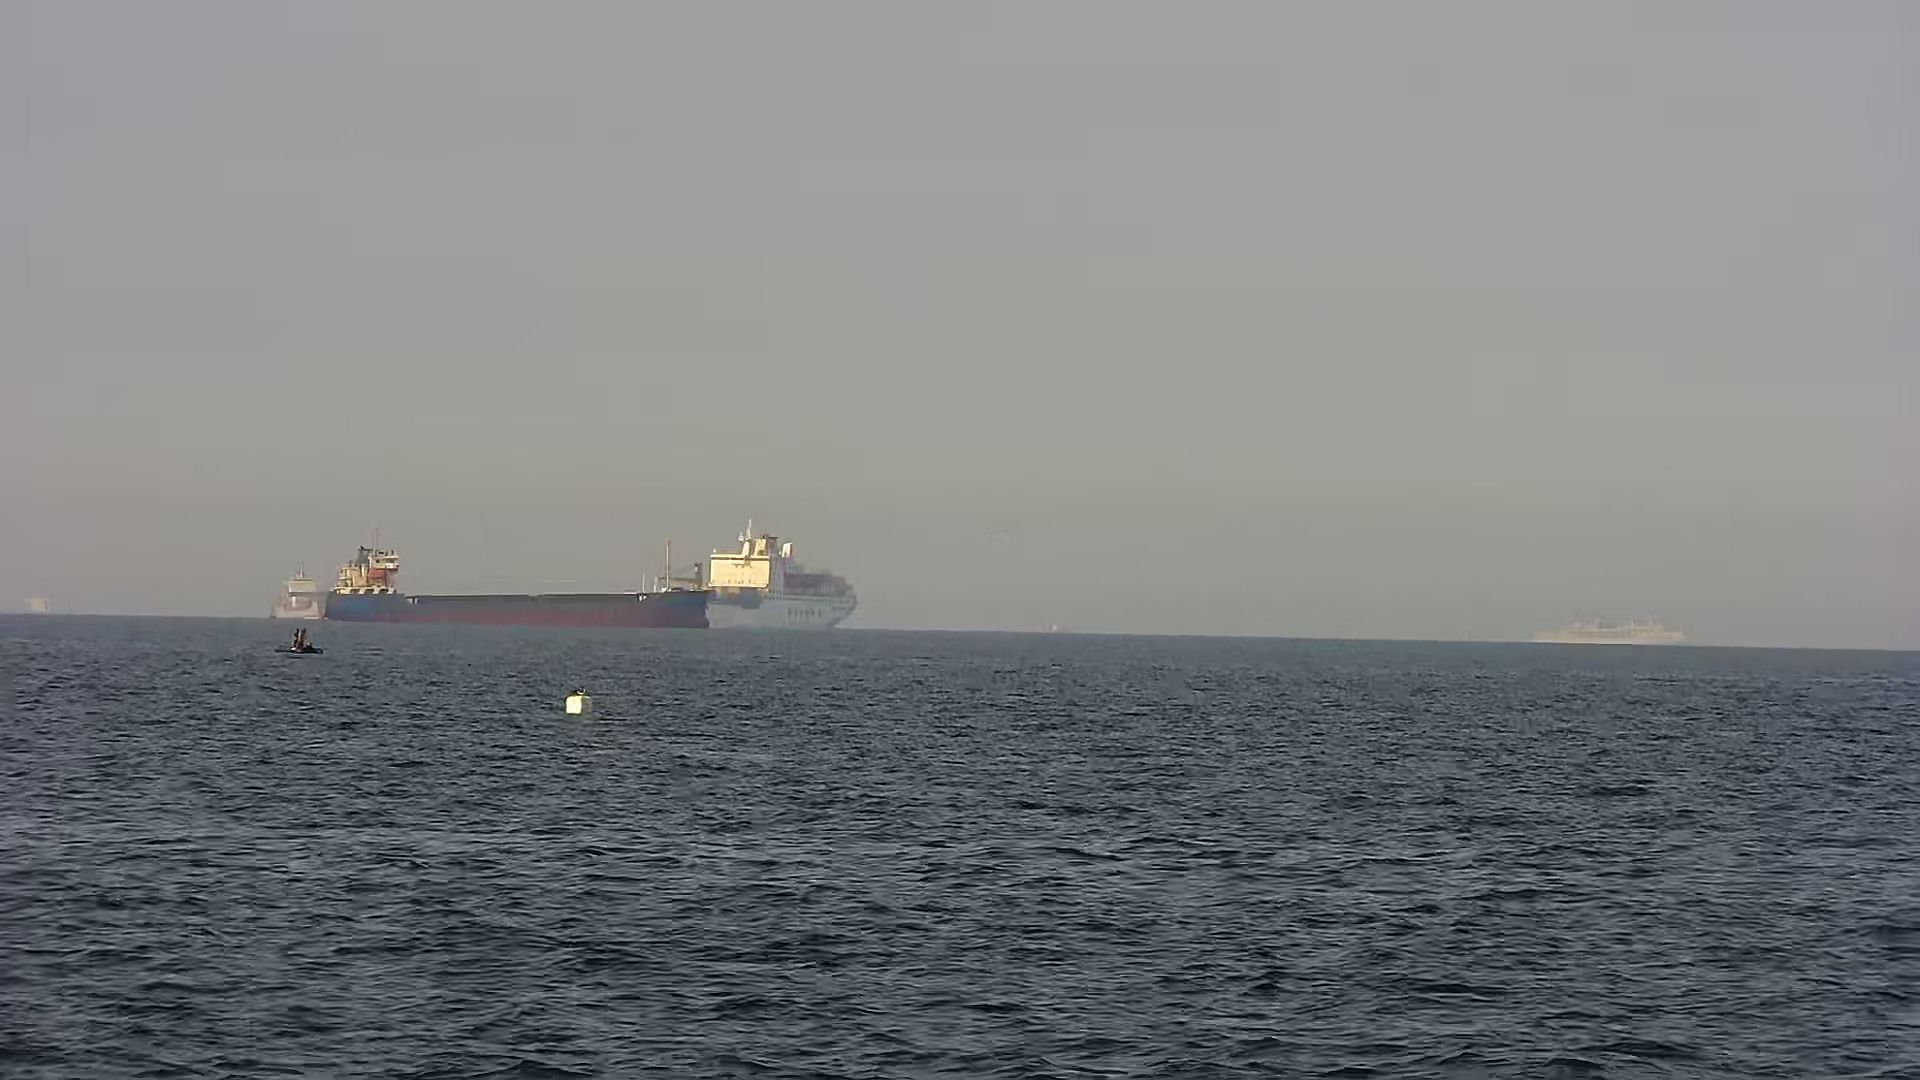platform: (258, 626, 334, 659)
rubbish: (556, 680, 597, 719)
ship: (255, 520, 862, 637)
